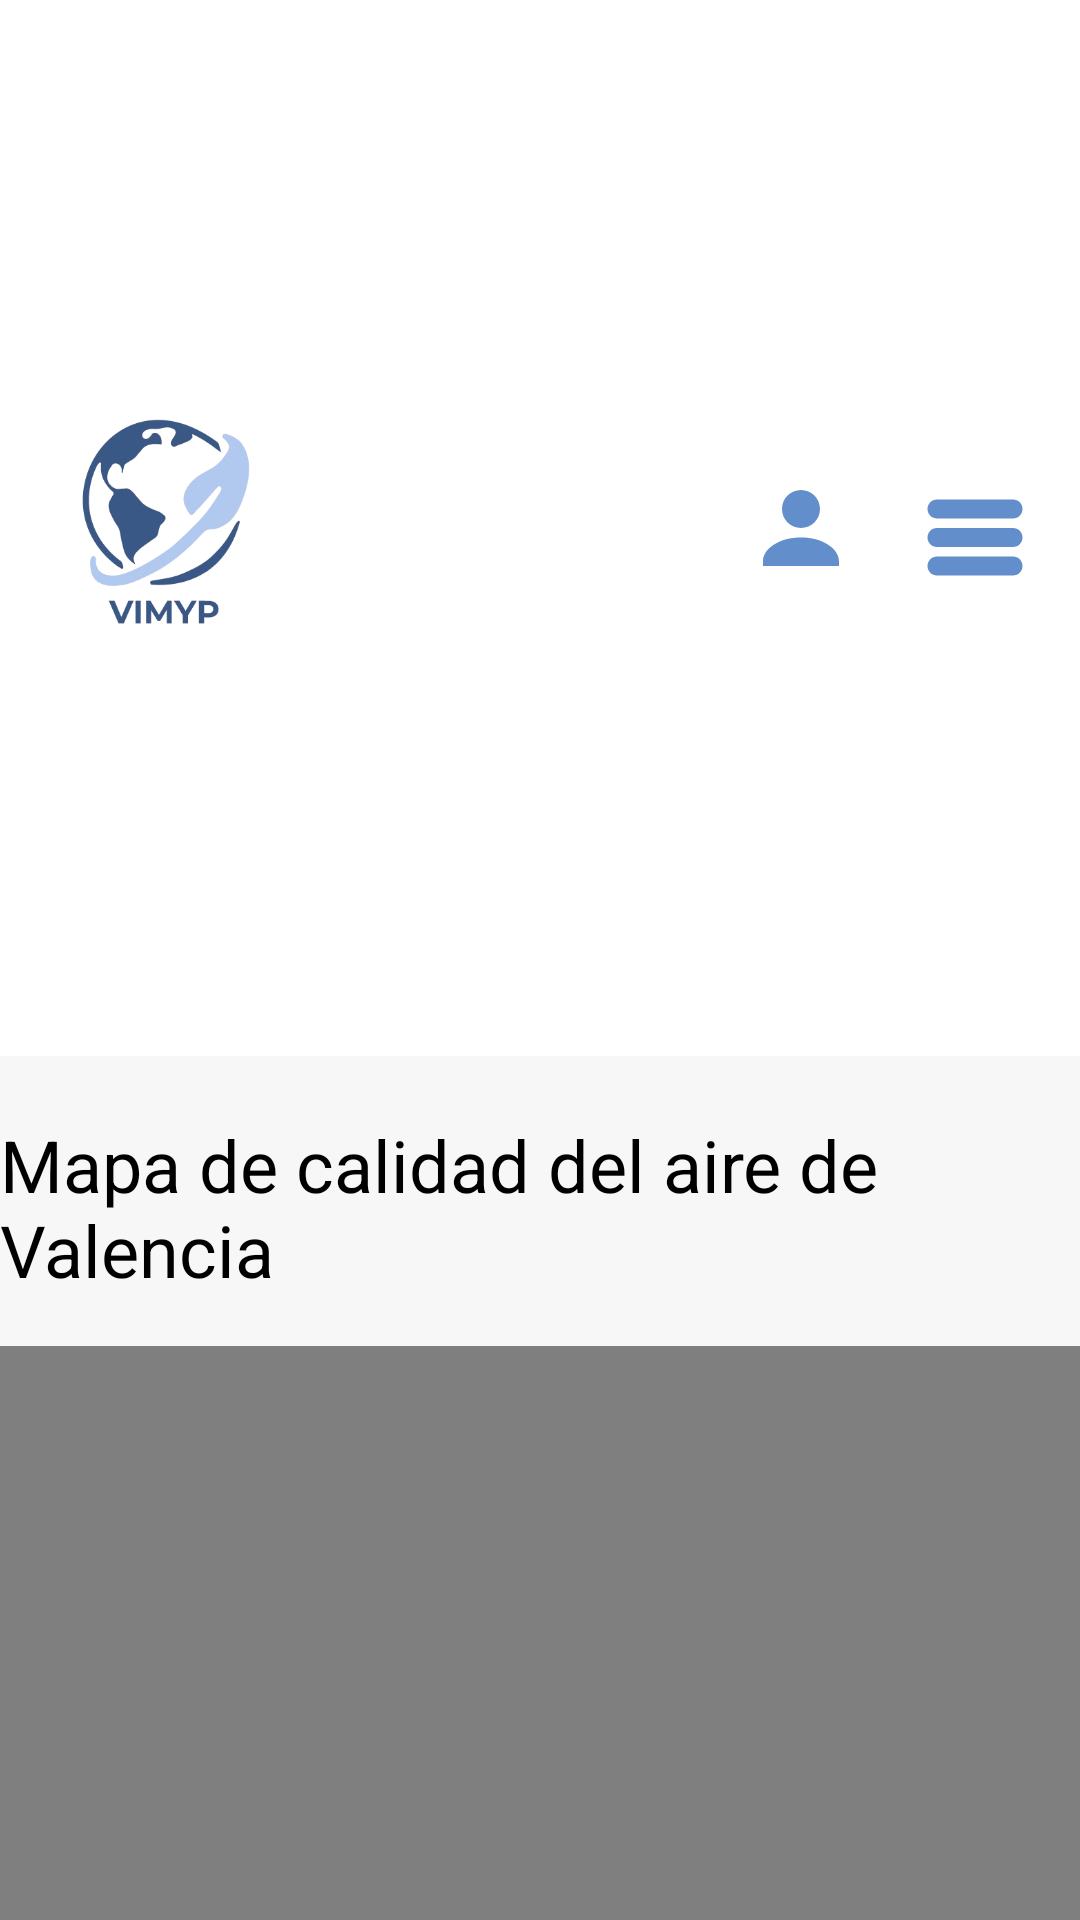

Icon bounding boxes for this 1080px×1920px phone screenshot, format (x1=x1, y1=y1, x2=x2, y2=y2):
Menu: (x1=927, y1=499, x2=1023, y2=576)
User: (x1=763, y1=490, x2=839, y2=566)
